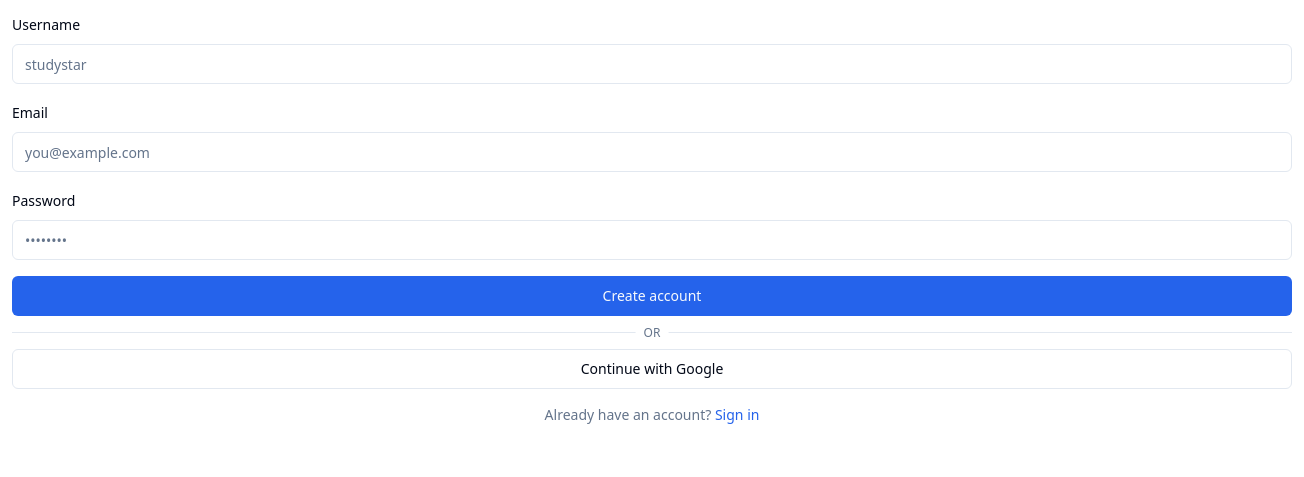
Test: RegisterForm › shows server error on duplicate email
In the field with placeholder "studystar": (652, 64) [12,44,1292,84], type "newuser"
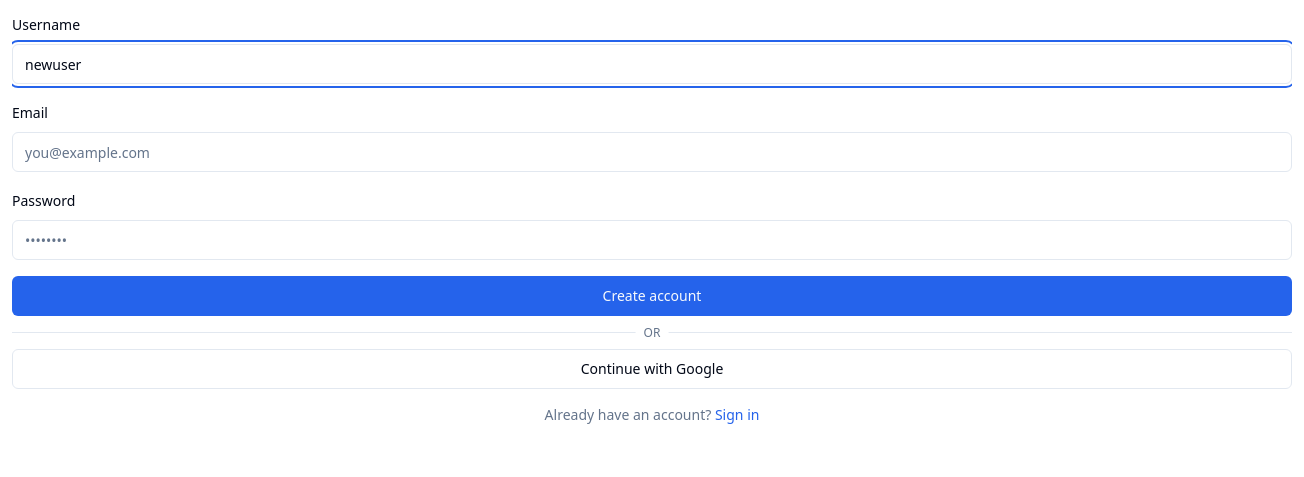
In the field with placeholder "you@example.com": (652, 152) [12,132,1292,172], type "dup@example.com"
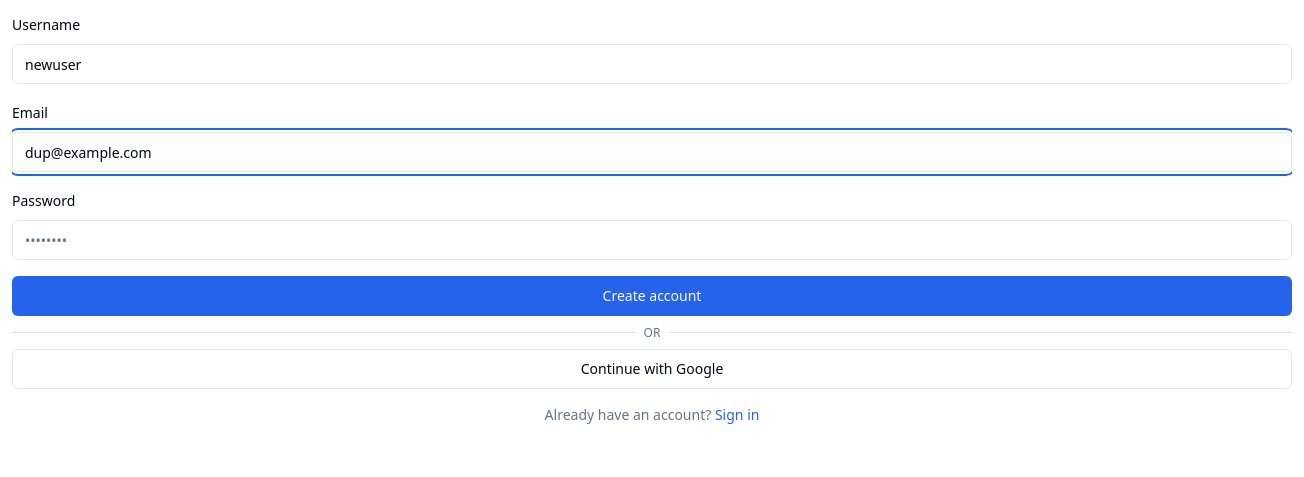
In the password field with placeholder "••••••••": (652, 240) [12,220,1292,260], type "Pass123"
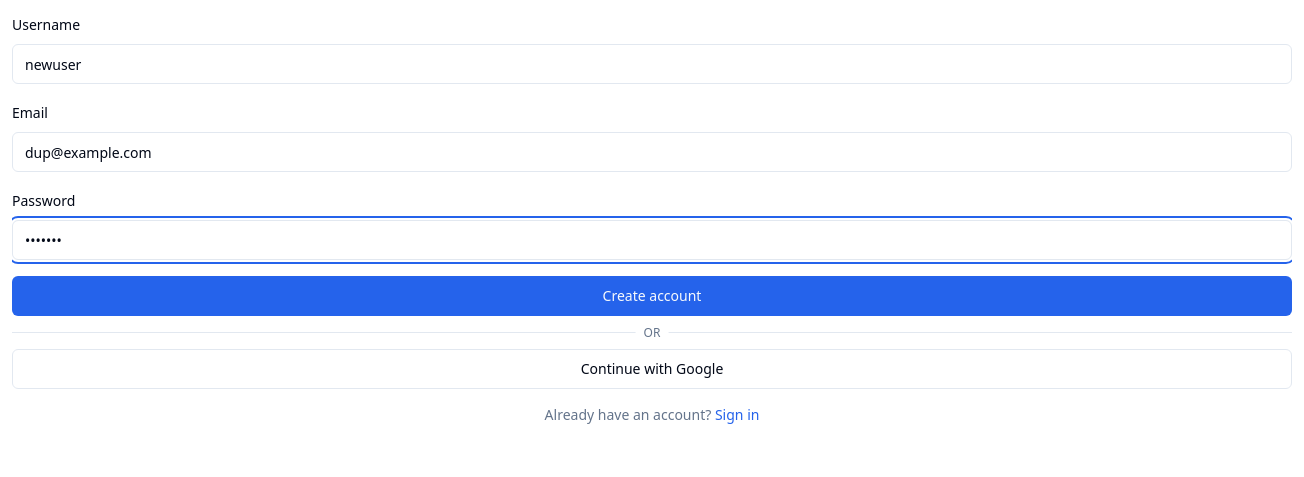
Click the button "Create account": (652, 296) [12,276,1292,316]
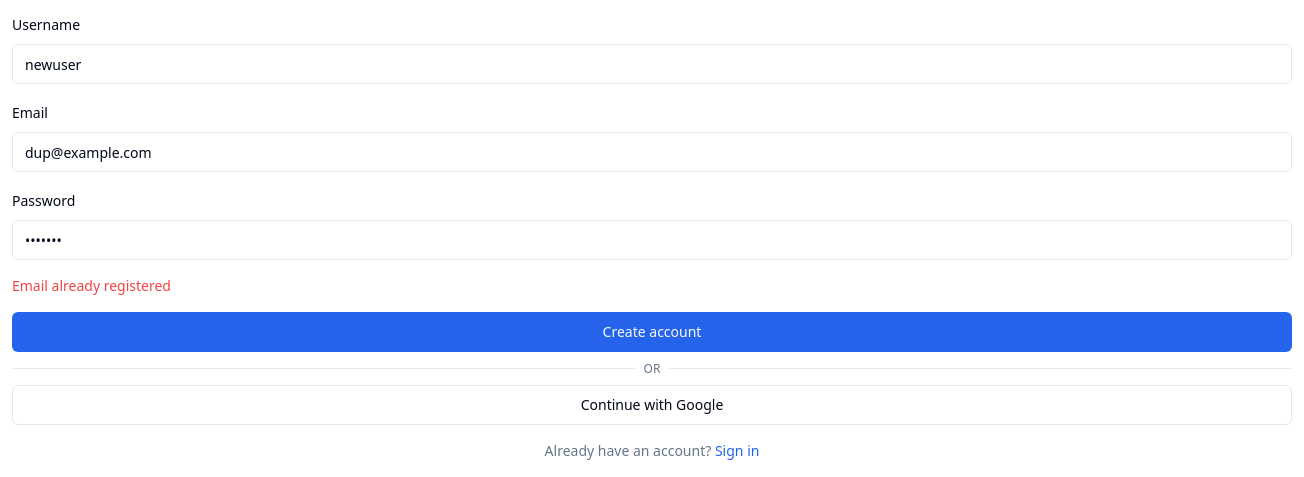
Check: the text "Email already registered" is shown, box [12,276,171,295]
